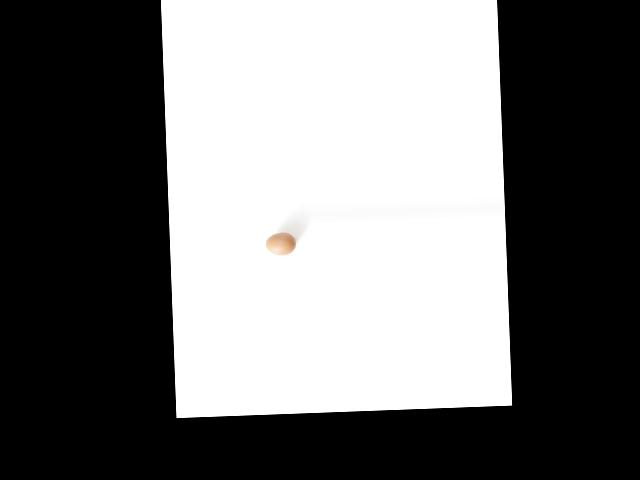egg: (265, 232, 296, 255)
